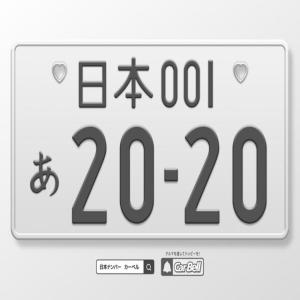Plate: (11, 40, 290, 239)
